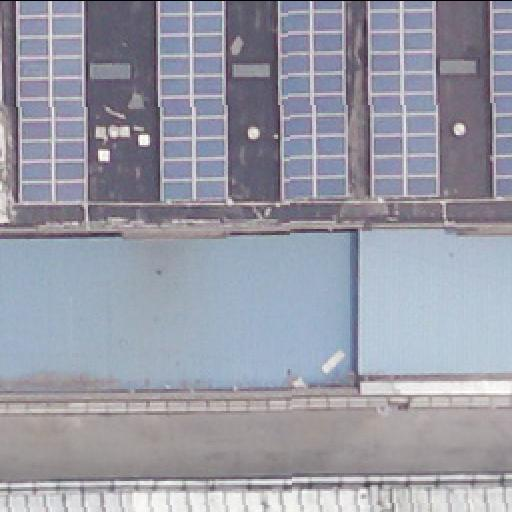solar-panel: (277, 0, 347, 200), (369, 1, 439, 199), (158, 0, 226, 200), (18, 0, 86, 200), (490, 0, 510, 196)
